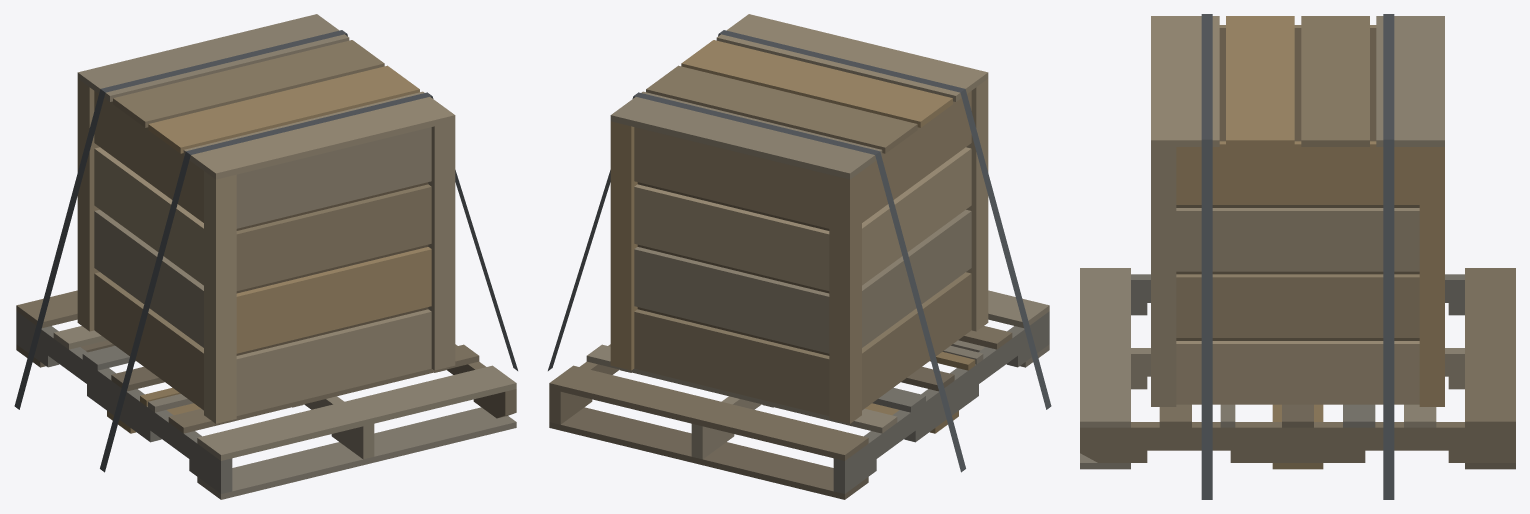
The model's file is large-crate-pallet.glb.
3 renders of one model, left to right at view 1: azimuth 30°, elevation 25°; view 2: azimuth 150°, elevation 25°; view 3: azimuth 270°, elevation 25°, orthographic. The views are drawn at different scales.
Visible parts, largest first — view 1: Crate, Pallet, LargeCratePallet_Strap; view 2: Crate, Pallet, LargeCratePallet_Strap; view 3: Crate, Pallet, LargeCratePallet_Strap.
Part boxes in pixels (left/top/right/bottom): Crate: left=77, top=14, right=455, bottom=423; Pallet: left=16, top=290, right=516, bottom=499; LargeCratePallet_Strap: left=14, top=30, right=517, bottom=472; Crate: left=610, top=14, right=988, bottom=423; Pallet: left=549, top=290, right=1049, bottom=499; LargeCratePallet_Strap: left=548, top=30, right=1051, bottom=472; Crate: left=1151, top=16, right=1444, bottom=406; Pallet: left=1080, top=268, right=1515, bottom=469; LargeCratePallet_Strap: left=1201, top=14, right=1394, bottom=499.
Bounding box in the file's own units: 1.4 × 0.959 × 1.2.
